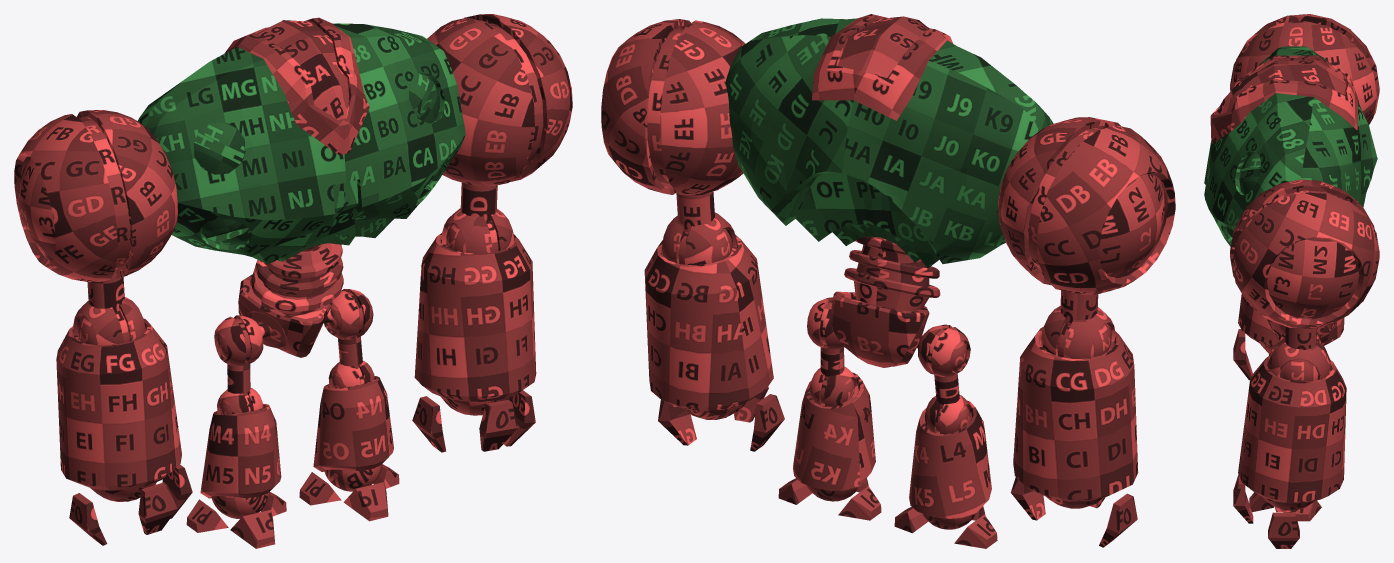
File: Robot.fbx
3 renders of one model, left to right at view 1: azimuth 30°, elevation 25°; view 2: azimuth 150°, elevation 25°; view 3: azimuth 270°, elevation 25°, orthographic. The views are drawn at different scales.
Visible parts, largest first — view 1: Torso, R_Shoulder, L_Shoulder, L_Forearm, R_Forearm, Head, R_Shin, L_Shin, Abs, Pelvis, R_Elbow, L_Elbow (+20 smaller); view 2: Torso, R_Shoulder, L_Shoulder, L_Forearm, R_Forearm, Head, R_Shin, L_Shin, Pelvis, Abs, R_Elbow, L_Elbow (+13 smaller); view 3: L_Shoulder, Torso, L_Forearm, Head, R_Shoulder, L_Elbow, R_Forearm, L_FingerRight, L_Bicep, R_FingerMiddle, L_FingerMiddle, Pelvis (+3 smaller).
Part boxes in pixels (bbox=[...]): Torso: bbox=[137, 23, 465, 263]; R_Shoulder: bbox=[14, 110, 177, 281]; L_Shoulder: bbox=[427, 14, 572, 186]; L_Forearm: bbox=[414, 233, 536, 401]; R_Forearm: bbox=[56, 318, 181, 490]; Head: bbox=[224, 17, 369, 155]; R_Shin: bbox=[200, 404, 281, 498]; L_Shin: bbox=[313, 376, 393, 471]; Abs: bbox=[250, 243, 343, 315]; Pelvis: bbox=[238, 274, 332, 357]; R_Elbow: bbox=[73, 297, 145, 345]; L_Elbow: bbox=[442, 208, 514, 253]; Torso: bbox=[725, 18, 1053, 268]; R_Shoulder: bbox=[998, 117, 1175, 294]; L_Shoulder: bbox=[601, 19, 745, 196]; L_Forearm: bbox=[644, 235, 773, 411]; R_Forearm: bbox=[1013, 327, 1138, 501]; Head: bbox=[812, 14, 952, 120]; R_Shin: bbox=[909, 400, 991, 518]; L_Shin: bbox=[793, 372, 875, 490]; Pelvis: bbox=[831, 291, 929, 367]; Abs: bbox=[844, 236, 940, 310]; R_Elbow: bbox=[1041, 306, 1115, 358]; L_Elbow: bbox=[662, 212, 736, 265]; L_Shoulder: bbox=[1230, 179, 1379, 328]; Torso: bbox=[1204, 46, 1377, 246]; L_Forearm: bbox=[1238, 356, 1346, 503]; Head: bbox=[1210, 55, 1357, 144]; R_Shoulder: bbox=[1230, 14, 1379, 124]; L_Elbow: bbox=[1267, 337, 1330, 381]; R_Forearm: bbox=[1238, 294, 1344, 347]; L_FingerRight: bbox=[1268, 512, 1299, 548]; L_Bicep: bbox=[1285, 326, 1316, 349]; R_FingerMiddle: bbox=[1233, 329, 1252, 380]; L_FingerMiddle: bbox=[1233, 474, 1253, 523]; Pelvis: bbox=[1267, 319, 1335, 344].
Size of the model in its own units: 4.4 by 3.89 by 1.47.
2 materials, 2 textured.
